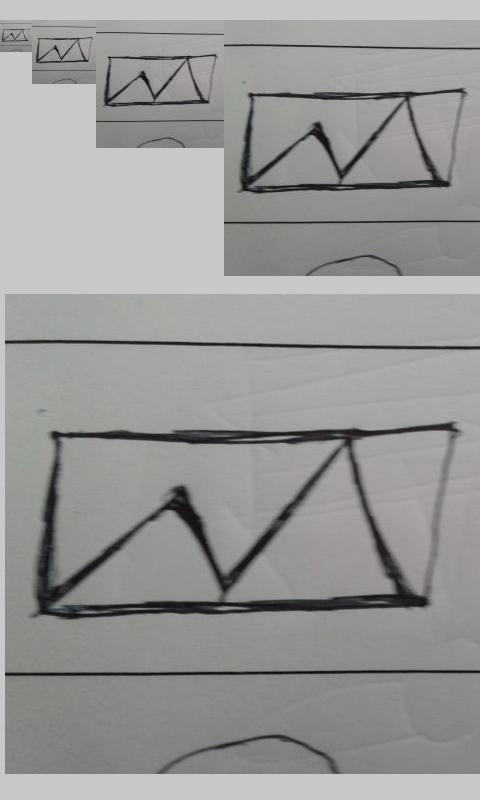image_view: (34, 424, 456, 623), (241, 89, 468, 192), (105, 55, 217, 106), (36, 37, 92, 64), (2, 28, 31, 42)
